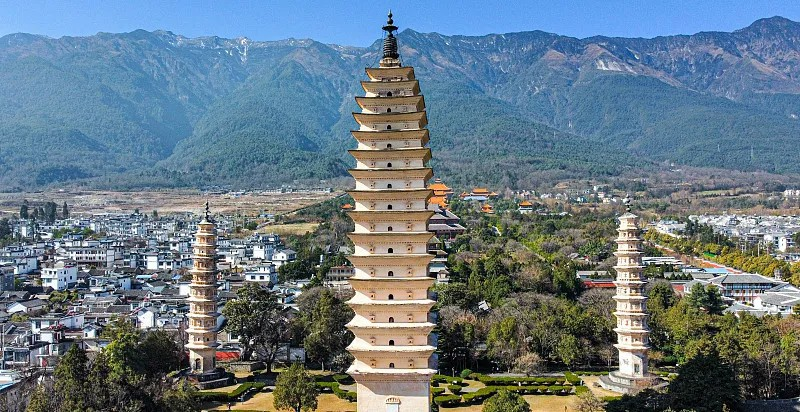ThreePagoda: (344, 9, 437, 412)
